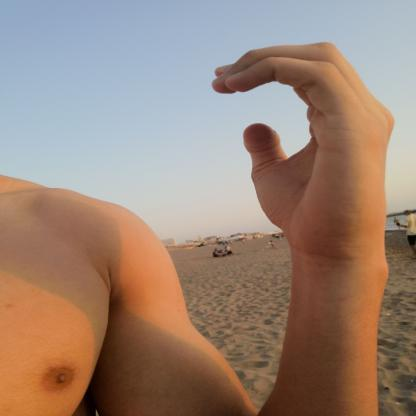JEEM: (198, 32, 406, 270)
